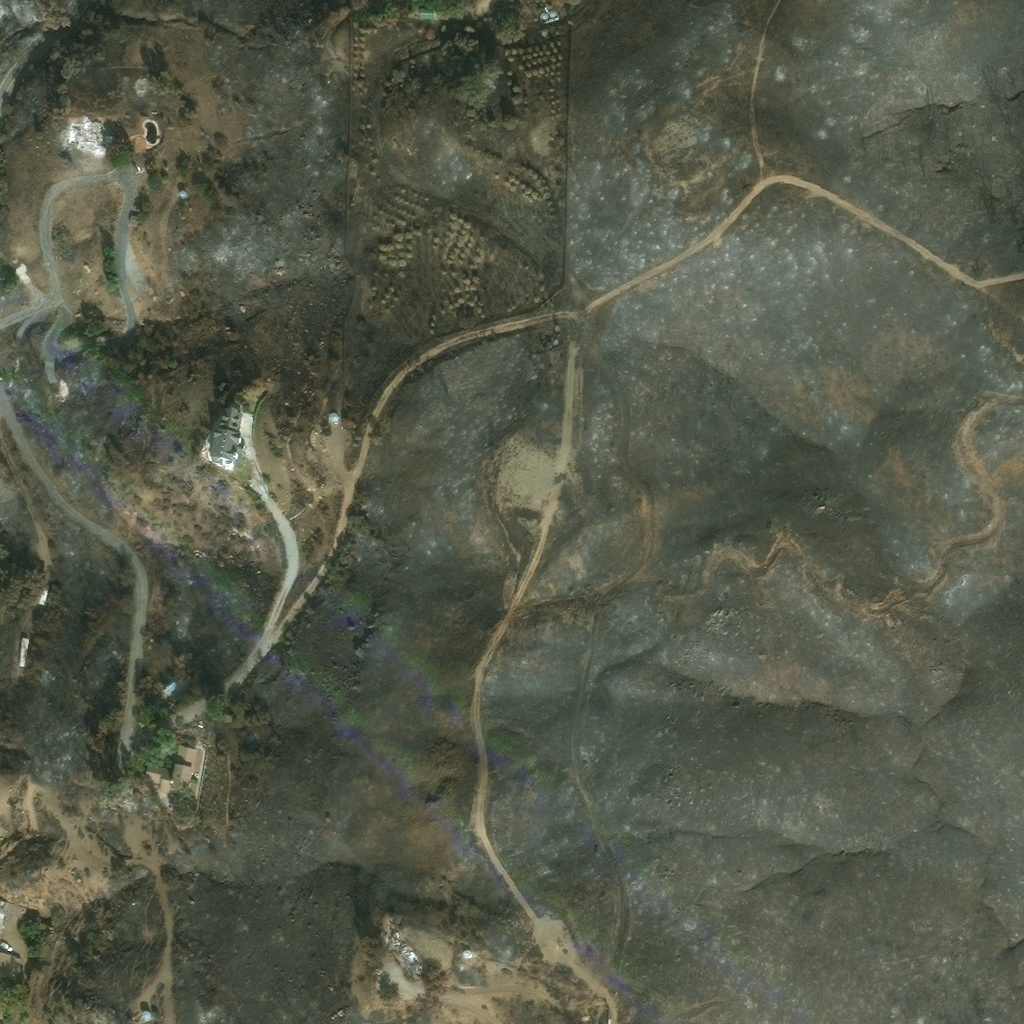0 no-damage: (143, 742, 199, 796), (207, 405, 242, 462), (538, 3, 559, 20), (18, 637, 30, 666), (161, 679, 178, 694), (37, 587, 50, 605), (58, 382, 70, 395), (328, 411, 340, 423), (419, 7, 434, 16), (140, 1010, 152, 1021), (461, 949, 472, 959), (177, 188, 187, 198)
3 destroyed: (68, 103, 103, 151), (394, 943, 424, 976), (388, 935, 401, 950)
